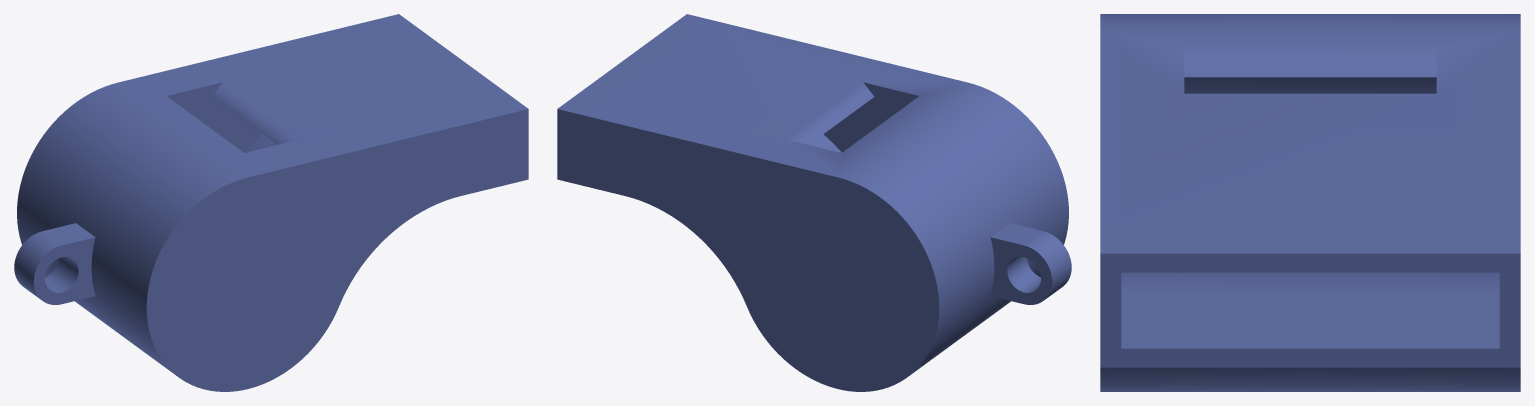
The model's file is whistle_v2.glb.
The picture shows the model from 3 angles, left to right: view 1: azimuth 30°, elevation 25°; view 2: azimuth 150°, elevation 25°; view 3: azimuth 270°, elevation 25°; orthographic projection. The views are drawn at different scales.
Visible parts, largest first — view 1: Object_2; view 2: Object_2; view 3: Object_2.
Boxes of the visible parts, left/top/right/bottom form: Object_2: left=14, top=14, right=528, bottom=391; Object_2: left=557, top=14, right=1071, bottom=391; Object_2: left=1100, top=14, right=1520, bottom=391.
Size of the model in its own units: 39.15 by 18 by 20.
